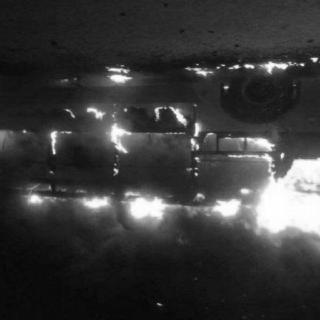Fire: (180, 52, 318, 80)
